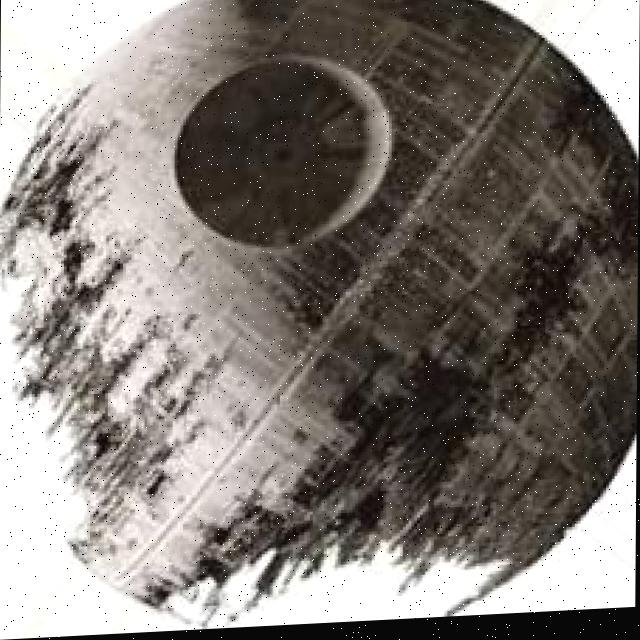deathstar: (0, 0, 640, 634)
